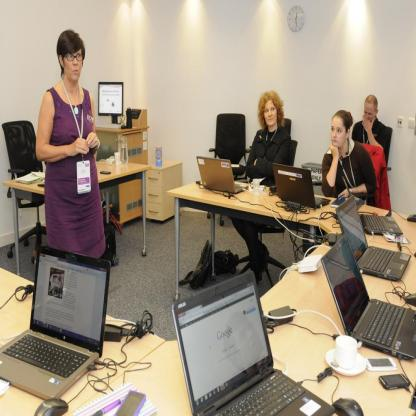board: (170, 270, 335, 416), (0, 245, 109, 401), (320, 236, 416, 360), (335, 196, 412, 281), (342, 172, 403, 237), (272, 163, 331, 210), (196, 156, 248, 196)
